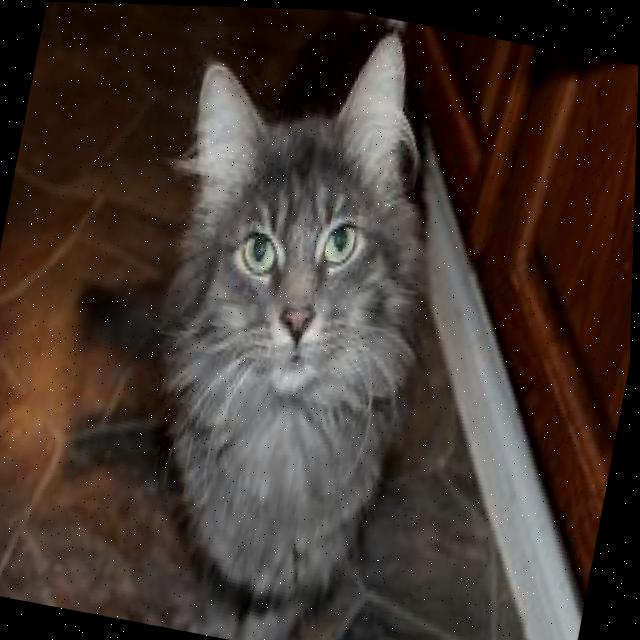Maine Coon: (98, 3, 478, 640)
